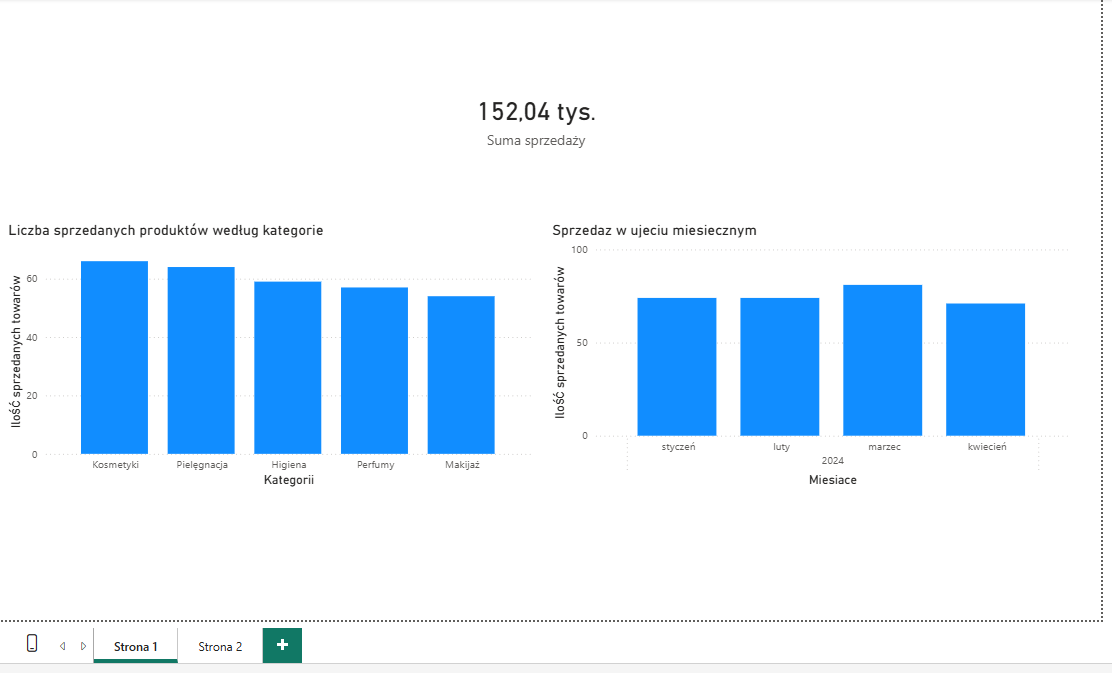

The dashboard page shown, as its layout file describes it:
{"tool":"powerbi","page":{"name":"Strona 1","canvas":[1280,720],"ordinal":0},"visuals":[{"type":"card","fields":{"Values":["Sum(sales_data.total)"]},"box":[441,88,370.4,104.2],"z":0},{"type":"clusteredColumnChart","title":"Liczba sprzedanych produktów według kategorie","fields":{"Category":["sales_data.category"],"Y":["CountNonNull(sales_data.total)"]},"box":[10.4,258.3,615.8,312.5],"z":1000},{"type":"clusteredColumnChart","title":"Sprzedaz w ujeciu miesiecznym","fields":{"Y":["CountNonNull(sales_data.total)"],"Category":["sales_data.date.Odmiana.Hierarchia dat.Rok","sales_data.date.Odmiana.Hierarchia dat.Miesiąc"]},"box":[640.1,258.1,608.9,312.5],"z":2000}]}

Visuals, with their boxes on the page's 1280x720 design canvas (x1, y1, x2, y2). These are canvas units, not pixel positions in the 1112x673 screenshot, which may show the page scaled, cropped or inside an application window:
card - Sum(sales_data.total): region(441, 88, 811, 192)
"Liczba sprzedanych produktów według kategorie" clusteredColumnChart: region(10, 258, 626, 571)
"Sprzedaz w ujeciu miesiecznym" clusteredColumnChart: region(640, 258, 1249, 571)
